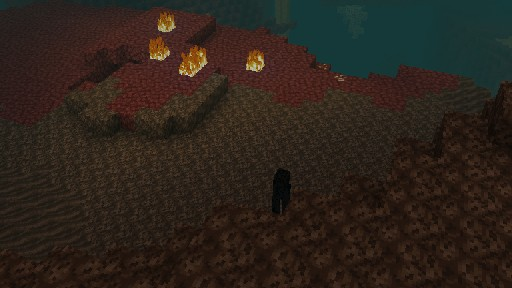enderman: (271, 166, 291, 229)
